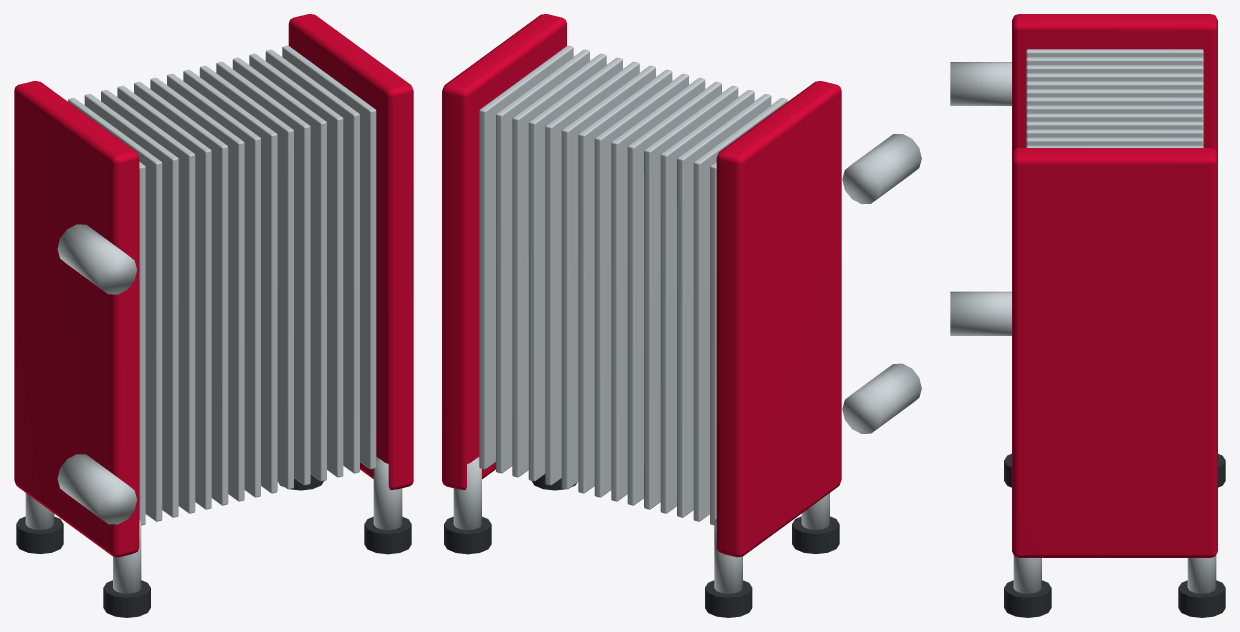
File: Heat_Exchanger.fbx
The picture shows the model from 3 angles, left to right: view 1: azimuth 30°, elevation 25°; view 2: azimuth 150°, elevation 25°; view 3: azimuth 270°, elevation 25°; orthographic projection.
Visible parts, largest first — view 1: Heat_Exchanger_Steel, Heat_Exchanger_Red, Heat_Exchanger_Rubber; view 2: Heat_Exchanger_Steel, Heat_Exchanger_Red, Heat_Exchanger_Rubber; view 3: Heat_Exchanger_Red, Heat_Exchanger_Steel, Heat_Exchanger_Rubber.
Boxes of the visible parts, x1,y1,x2,y2 form: Heat_Exchanger_Steel: (25, 45, 402, 593); Heat_Exchanger_Red: (14, 14, 413, 557); Heat_Exchanger_Rubber: (16, 474, 411, 617); Heat_Exchanger_Steel: (453, 45, 921, 593); Heat_Exchanger_Red: (442, 14, 841, 557); Heat_Exchanger_Rubber: (444, 474, 839, 617); Heat_Exchanger_Red: (1012, 14, 1217, 557); Heat_Exchanger_Steel: (950, 49, 1216, 593); Heat_Exchanger_Rubber: (1004, 453, 1225, 617).
Size of the model in its own units: 127 by 160 by 87.
